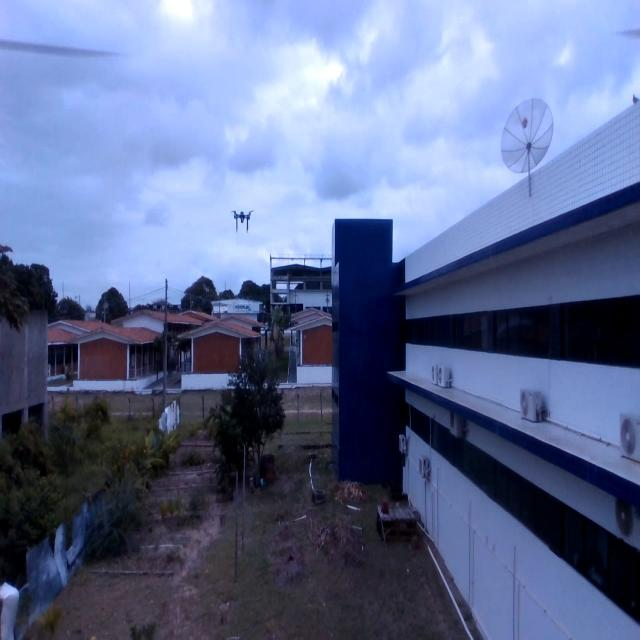-uav-: (226, 200, 258, 237)
